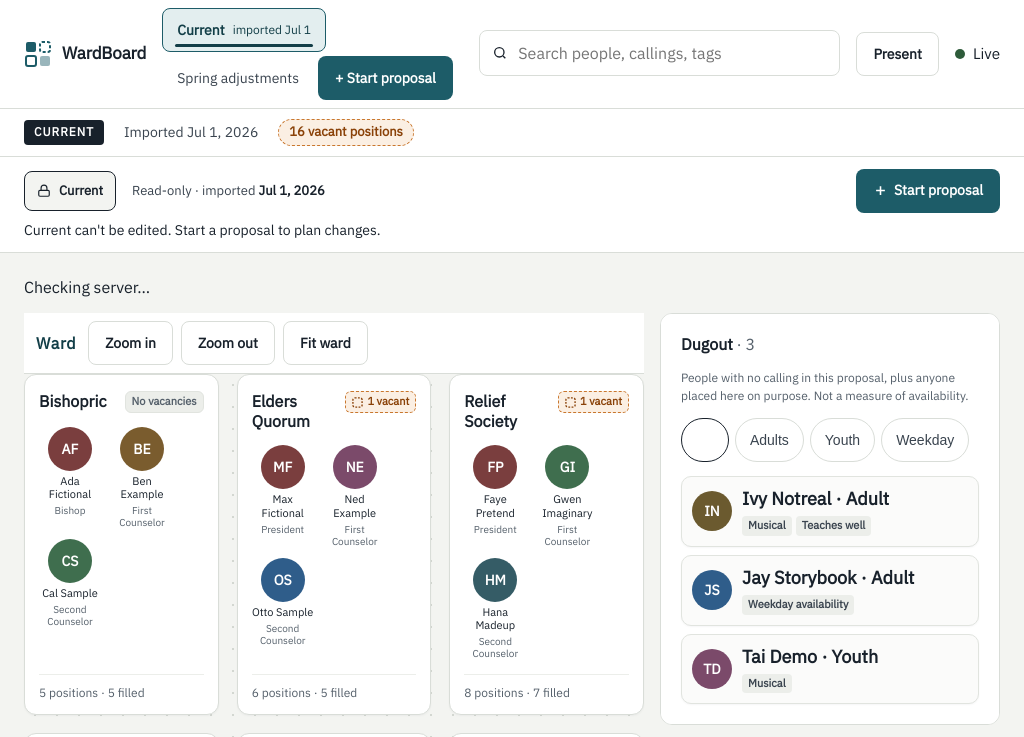
Test: T-082 proposal summary in app › switching tabs closes the summary
Click the tab "Spring adjustments" at point(238, 78), box [162,56,314,100]
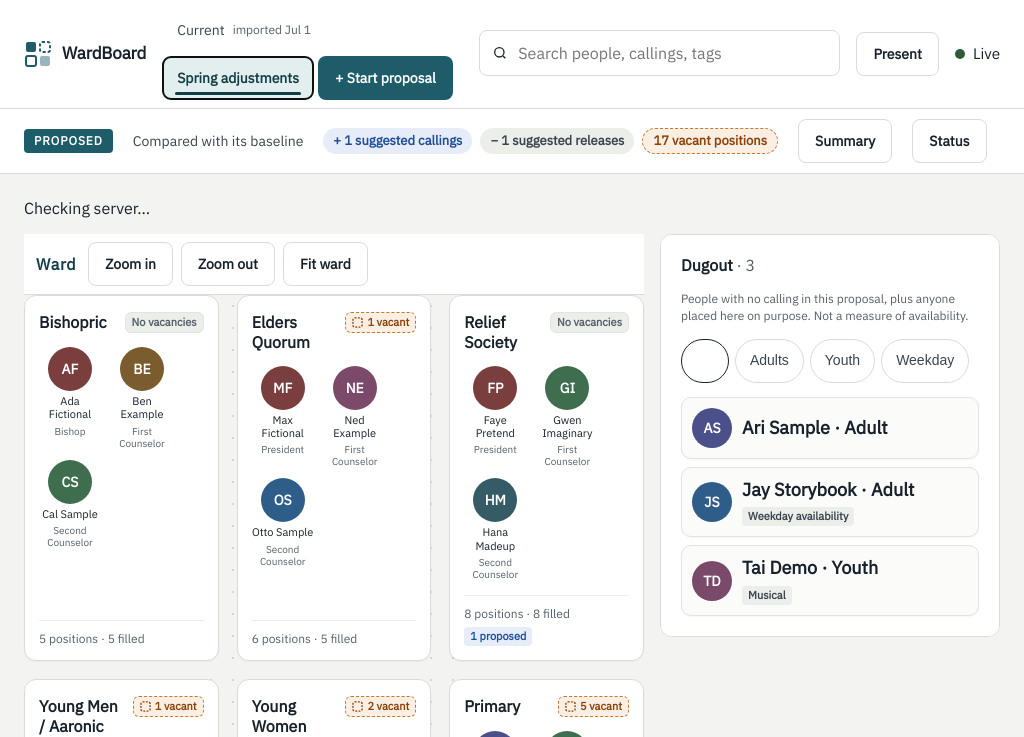
# Open Summary
Click the button "Summary" at point(845, 141), box [798,119,892,163]
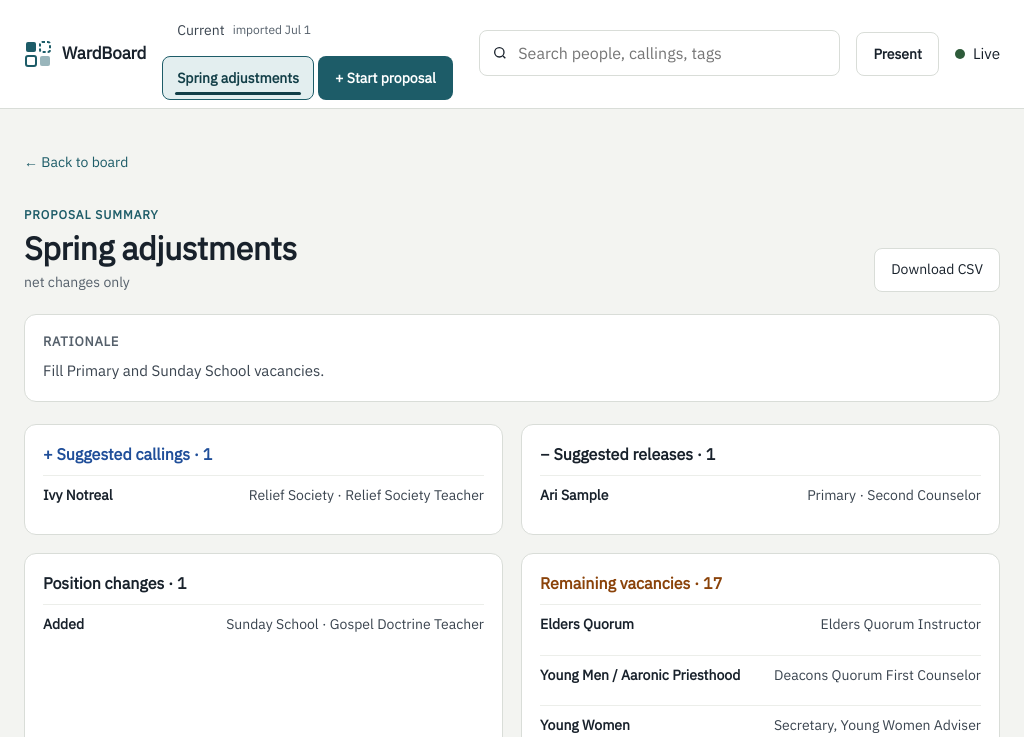
expect the heading "Spring adjustments" is shown: met, box [24,230,297,267]
# Switch to Current tab
Click the tab "Current imported Jul 1" at point(244, 30), box [162,8,326,52]
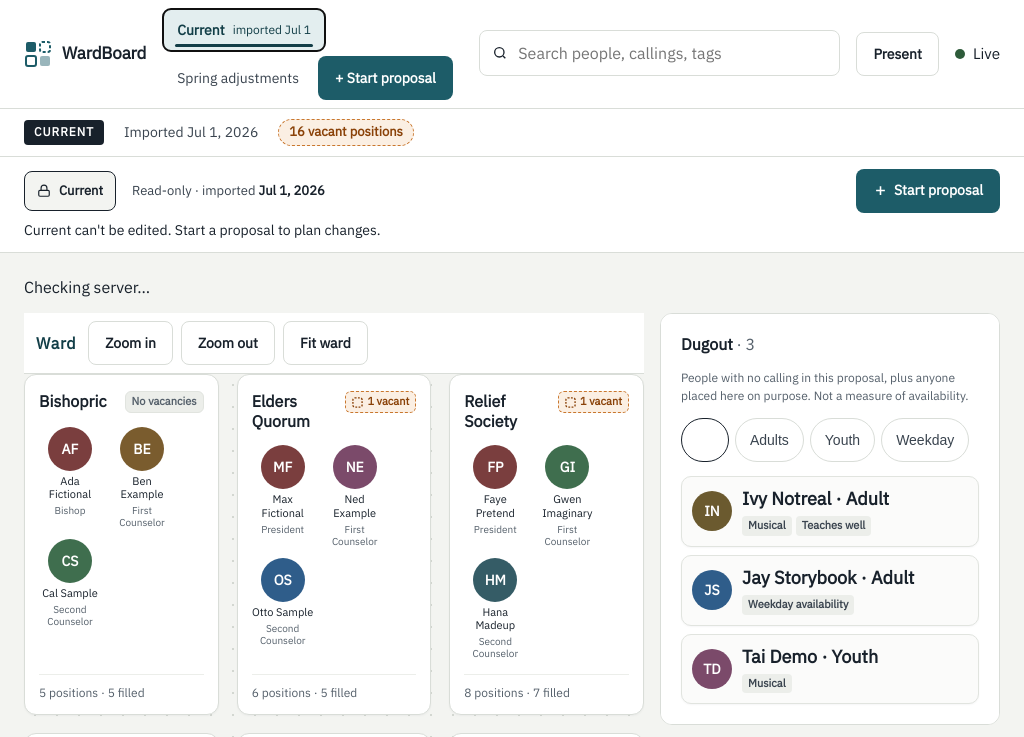
expect the text "Ward" is shown: met, box [36,334,76,354]
